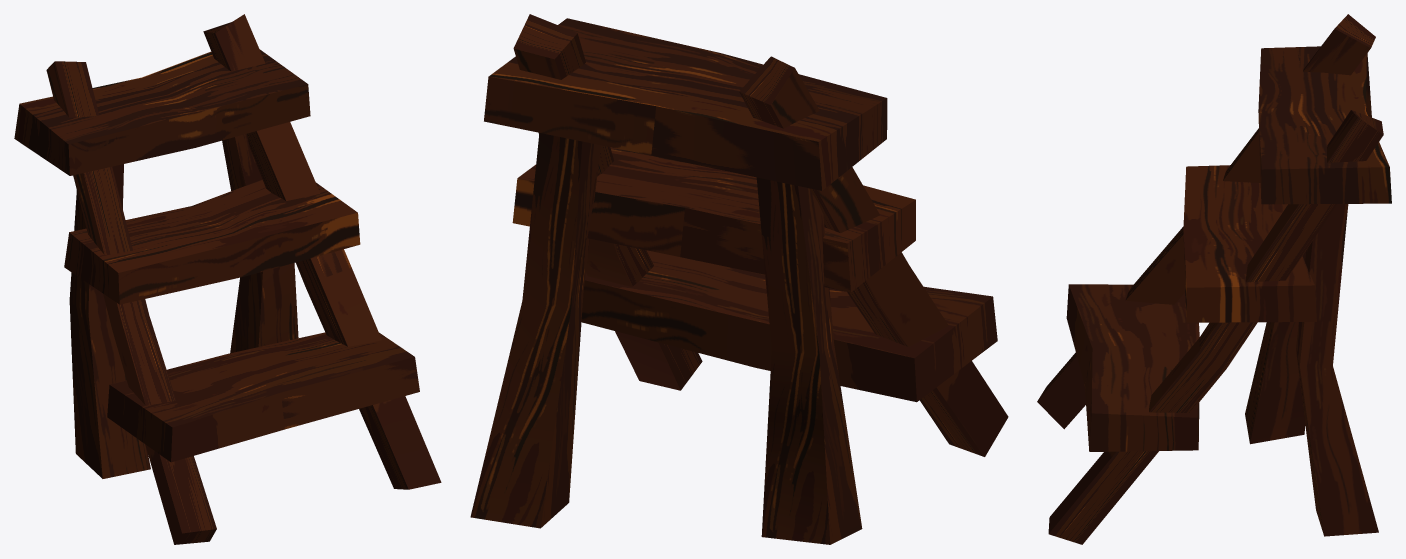
The model's file is SM_PROP_stepladder.fbx.
The picture shows the model from 3 angles, left to right: view 1: azimuth 30°, elevation 25°; view 2: azimuth 150°, elevation 25°; view 3: azimuth 270°, elevation 25°; orthographic projection. The views are drawn at different scales.
Visible parts, largest first — view 1: SM_PROP_stepladder; view 2: SM_PROP_stepladder; view 3: SM_PROP_stepladder.
Part boxes in pixels (bbox=[...]): SM_PROP_stepladder: bbox=[14, 14, 441, 544]; SM_PROP_stepladder: bbox=[470, 14, 1008, 544]; SM_PROP_stepladder: bbox=[1037, 14, 1391, 544].
Size of the model in its own units: 56.34 by 75.94 by 60.13.
